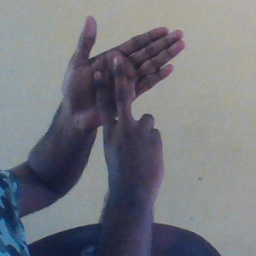N: (56, 12, 188, 174)
